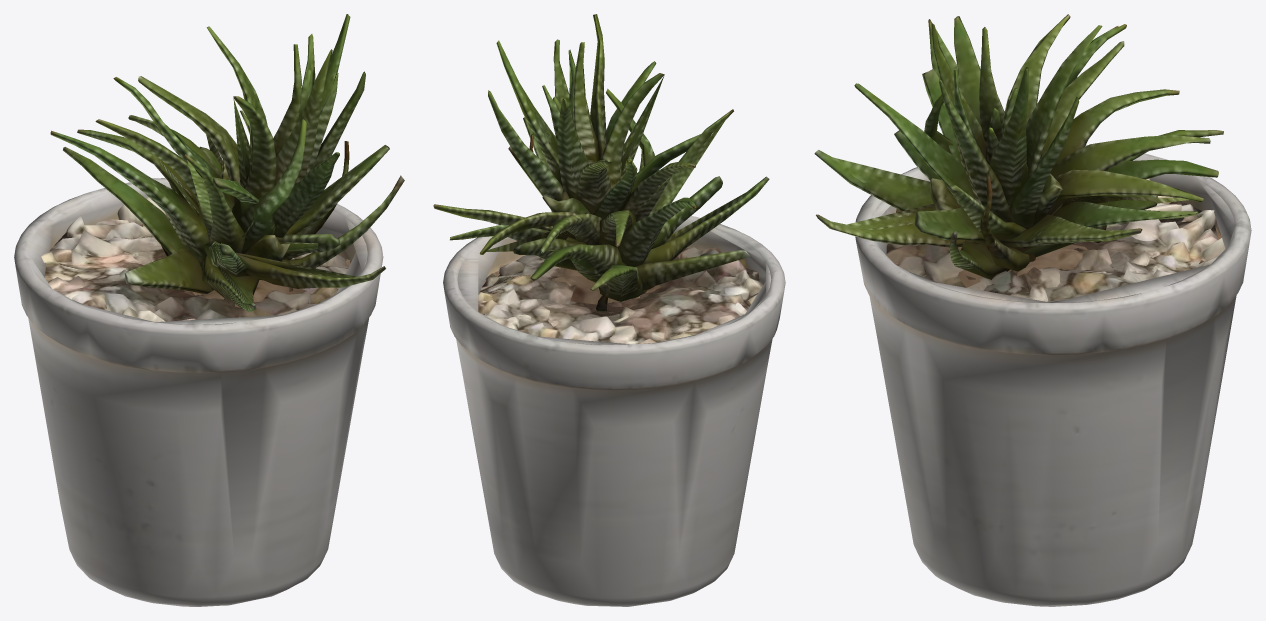
File: potted_plant_04.glb
The picture shows the model from 3 angles, left to right: view 1: azimuth 30°, elevation 25°; view 2: azimuth 150°, elevation 25°; view 3: azimuth 270°, elevation 25°; orthographic projection. The views are drawn at different scales.
Visible parts, largest first — view 1: potted_plant_04_ground, potted_plant_04_ground_lo; view 2: potted_plant_04_ground, potted_plant_04_ground_lo; view 3: potted_plant_04_ground, potted_plant_04_ground_lo.
Part boxes in pixels (x1,y1,x2,y2): potted_plant_04_ground: [14, 14, 404, 606]; potted_plant_04_ground_lo: [26, 98, 367, 390]; potted_plant_04_ground: [433, 14, 785, 606]; potted_plant_04_ground_lo: [457, 75, 771, 407]; potted_plant_04_ground: [814, 14, 1251, 606]; potted_plant_04_ground_lo: [832, 20, 1234, 383].
Size of the model in its own units: 0.1679 by 0.2672 by 0.1847.
1 material, 1 textured.
